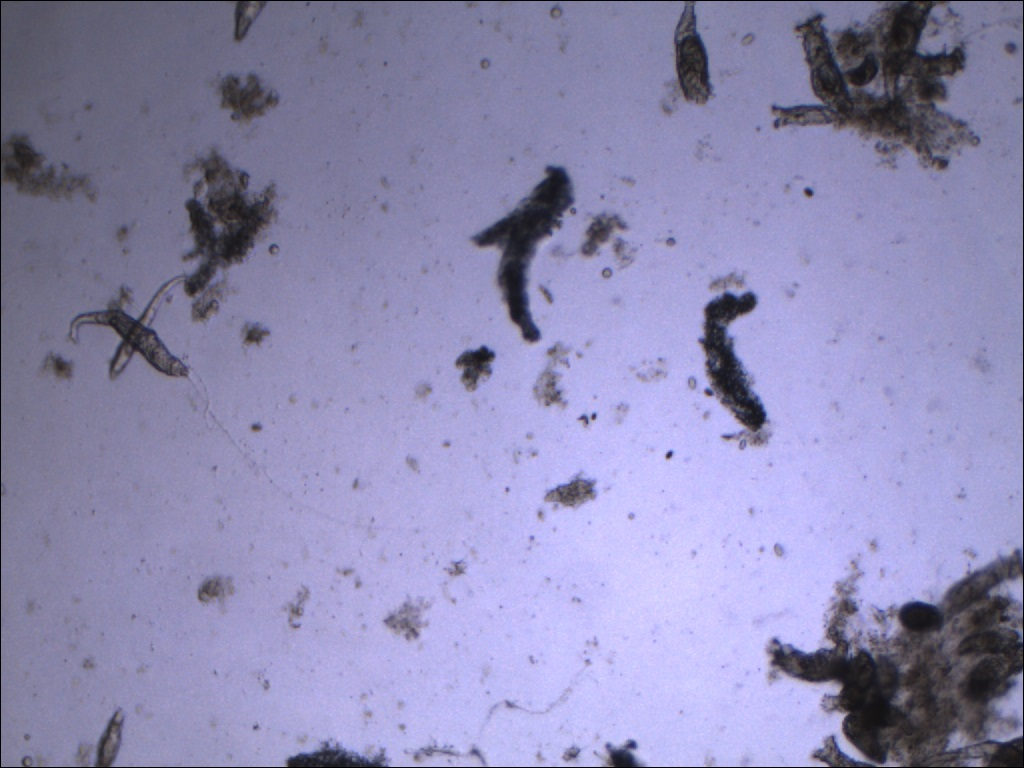amoeba: (469, 158, 582, 348), (693, 288, 775, 434)
